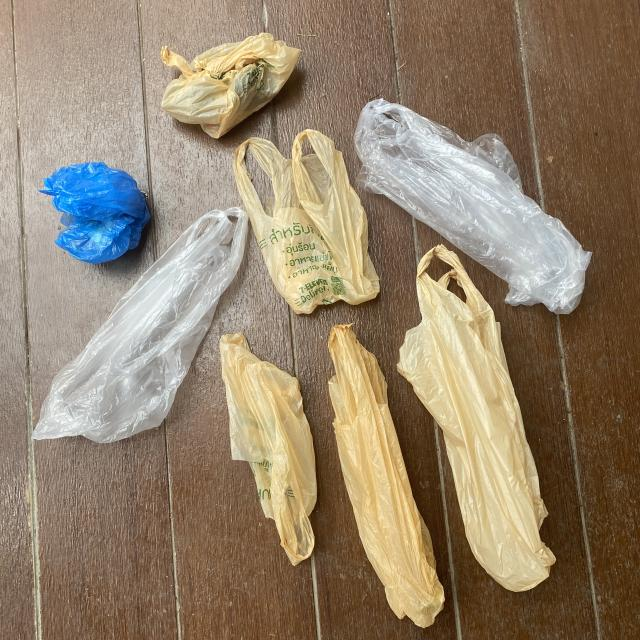Single-layer Plastic: (398, 245, 555, 591), (354, 99, 591, 314), (32, 208, 248, 442), (329, 325, 444, 628), (234, 130, 379, 314), (220, 332, 316, 565), (161, 32, 301, 139), (40, 162, 150, 264)
